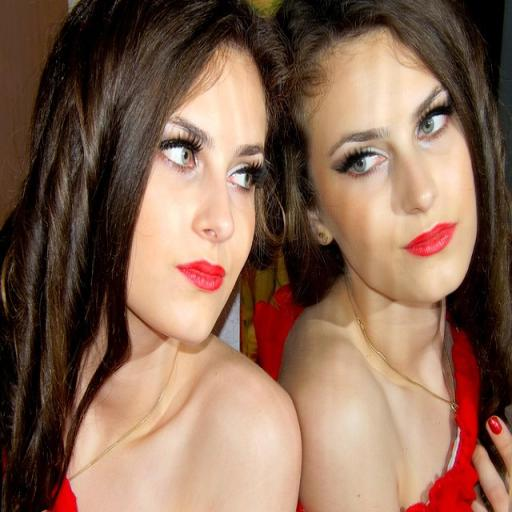lipstick: (405, 223, 455, 257), (177, 261, 225, 291)
